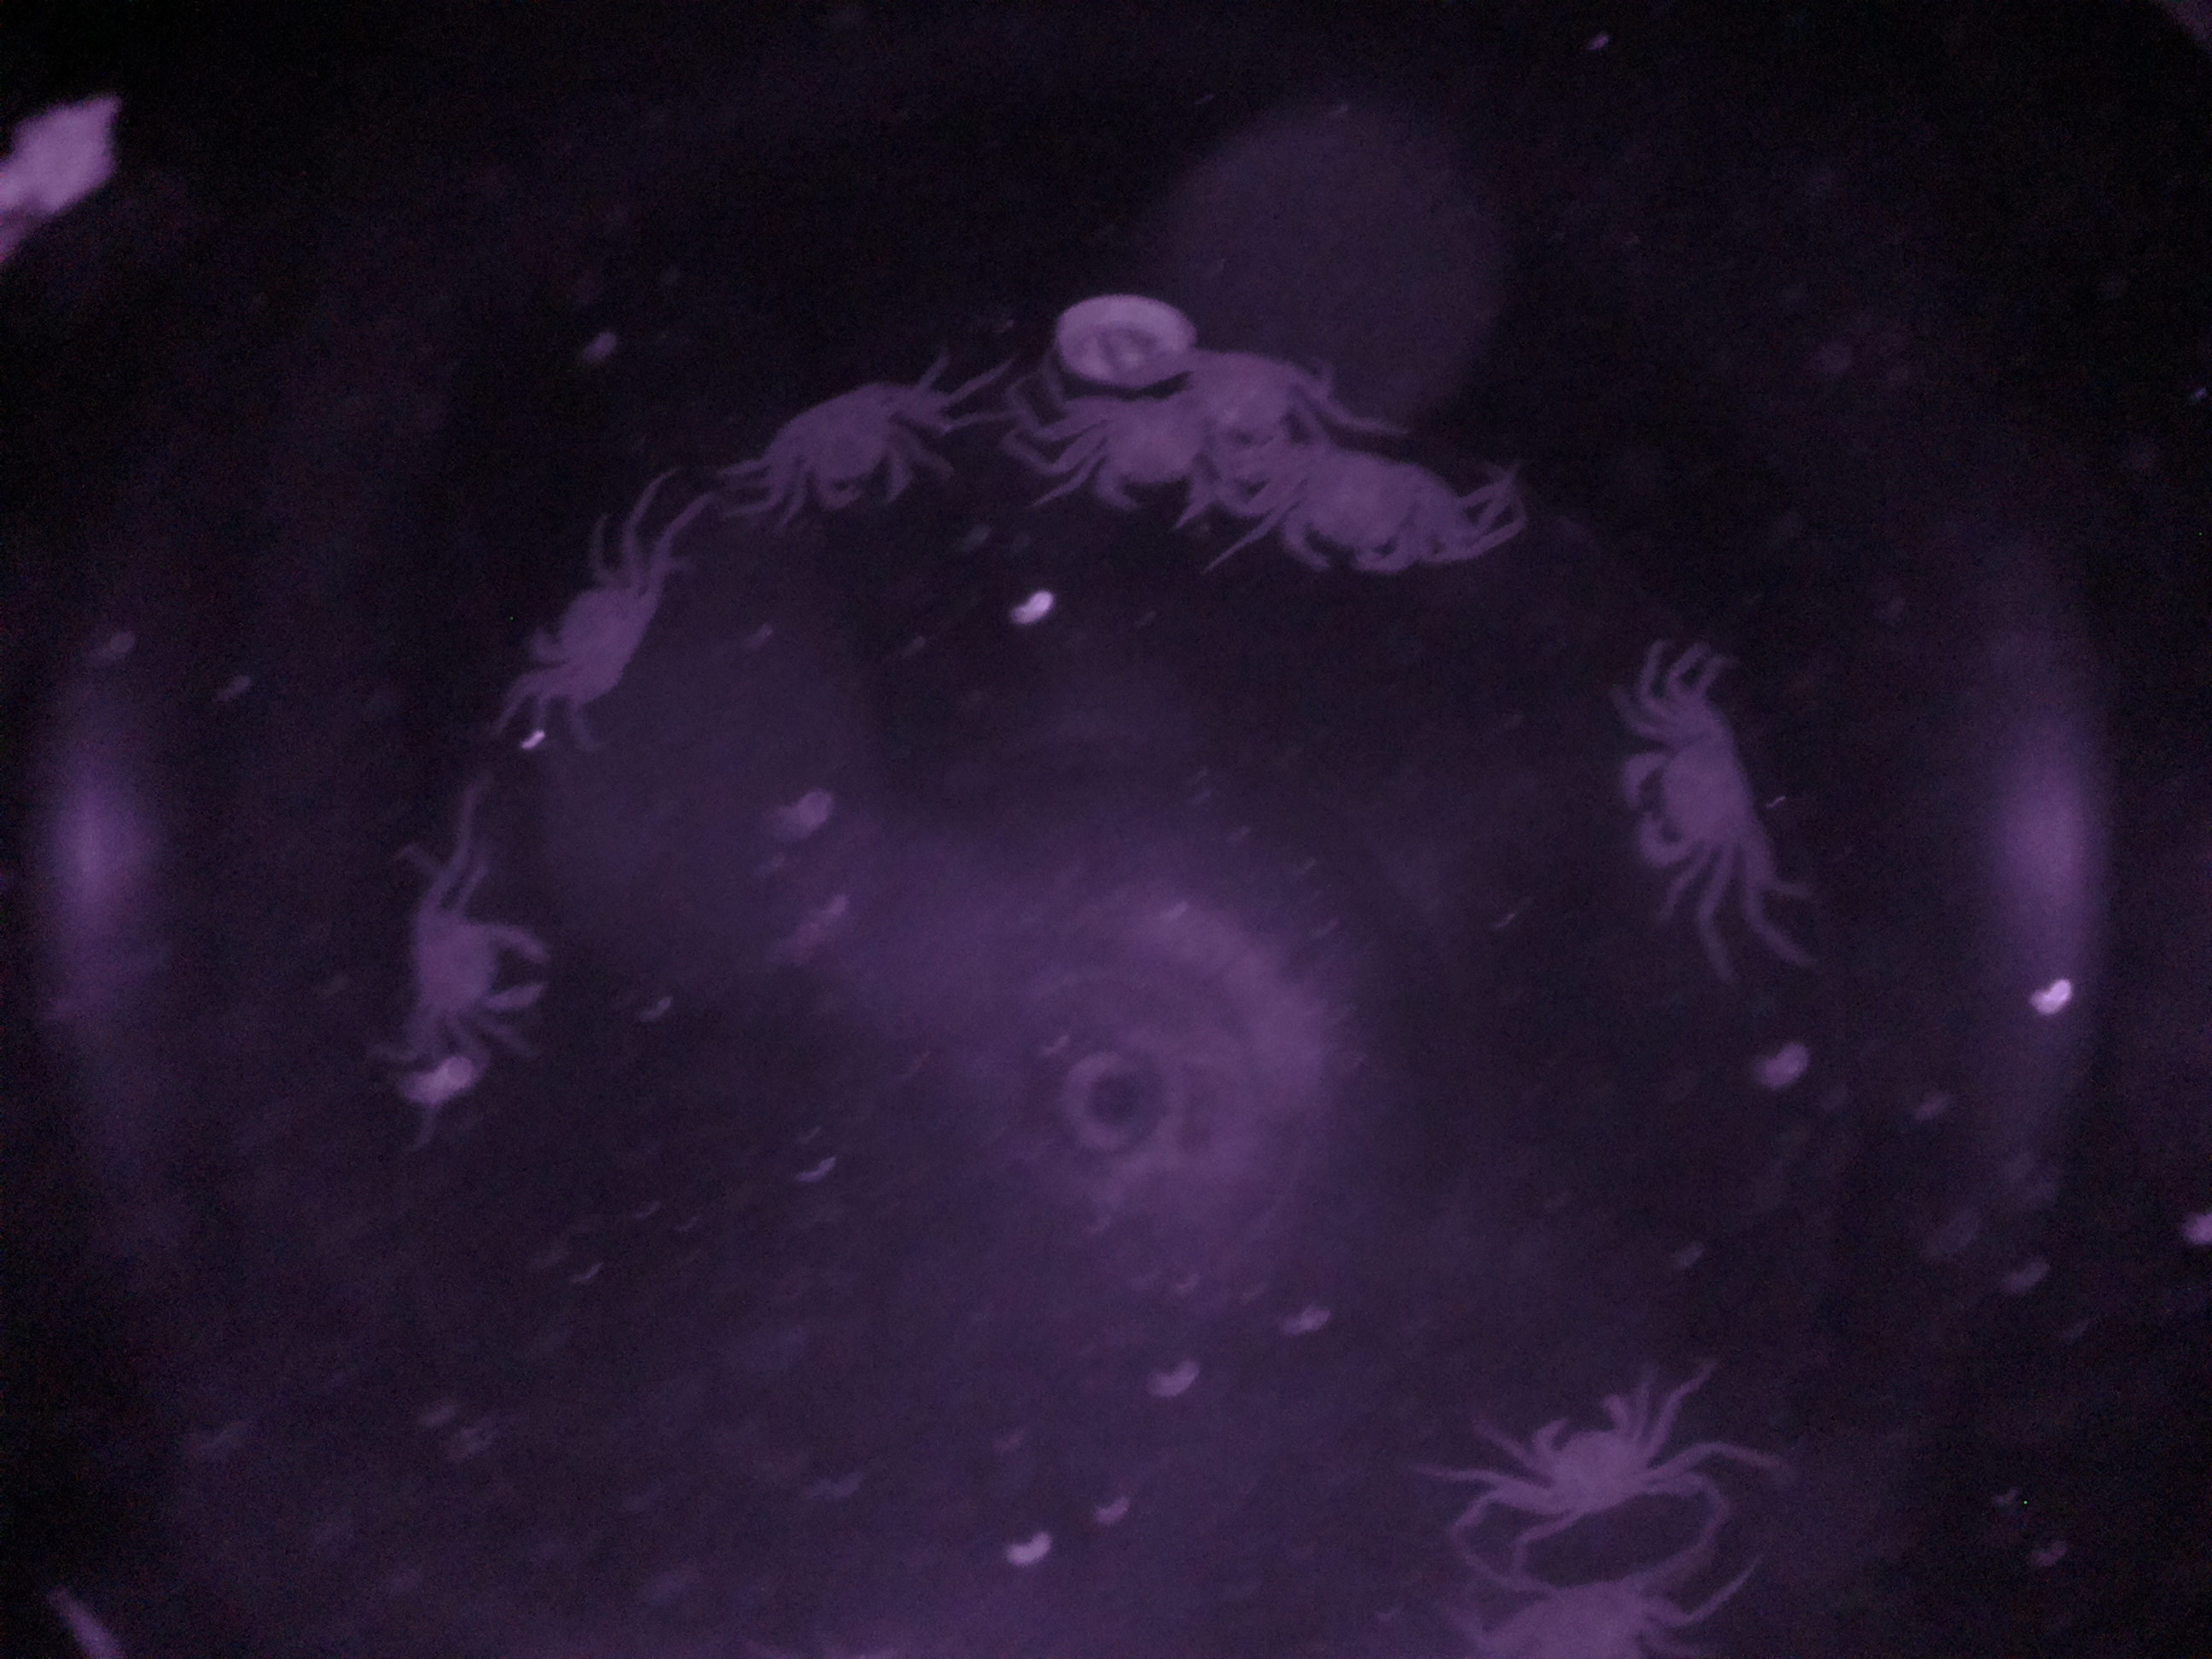Crab: (1599, 697, 1818, 908), (1494, 1361, 1681, 1544), (752, 369, 949, 532)
